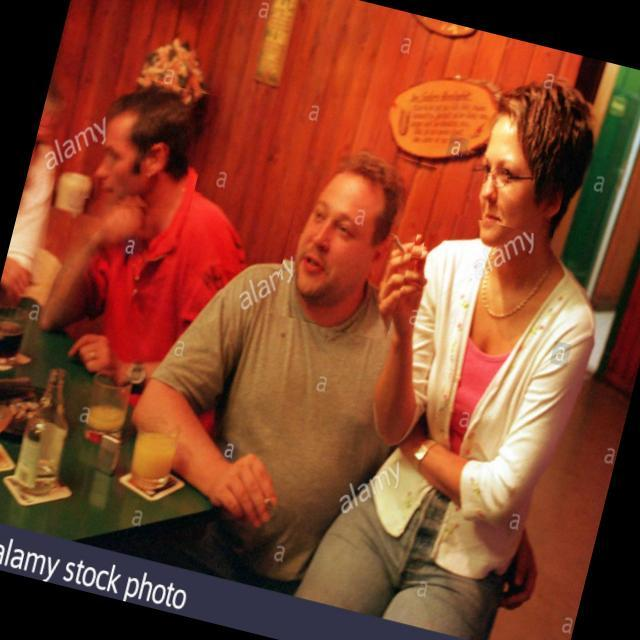cigarette: (385, 214, 429, 260)
